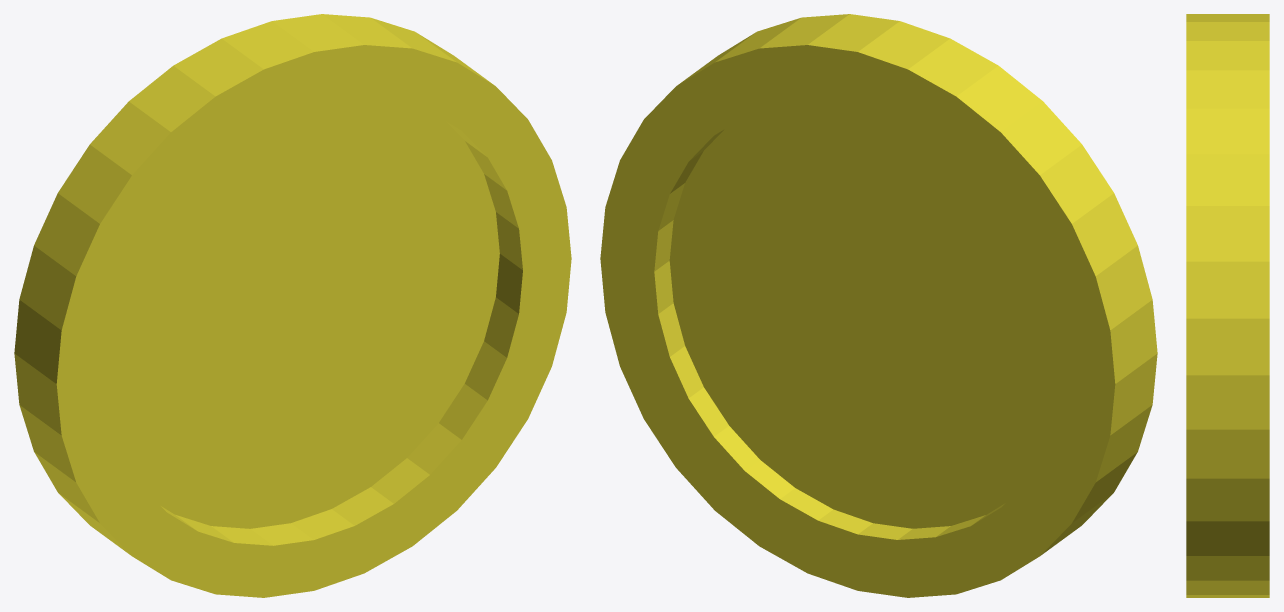
File: Token.fbx
3 views of the same model, side by side, from view 1: azimuth 30°, elevation 25°; view 2: azimuth 150°, elevation 25°; view 3: azimuth 270°, elevation 25° (orthographic).
Visible parts, largest first — view 1: Token; view 2: Token; view 3: Token.
Part boxes in pixels (x1=…): Token: x1=14, y1=14, x2=571, y2=597; Token: x1=600, y1=14, x2=1157, y2=597; Token: x1=1186, y1=14, x2=1269, y2=597.
Bounding box in the file's own units: 151 × 151 × 21.52.
